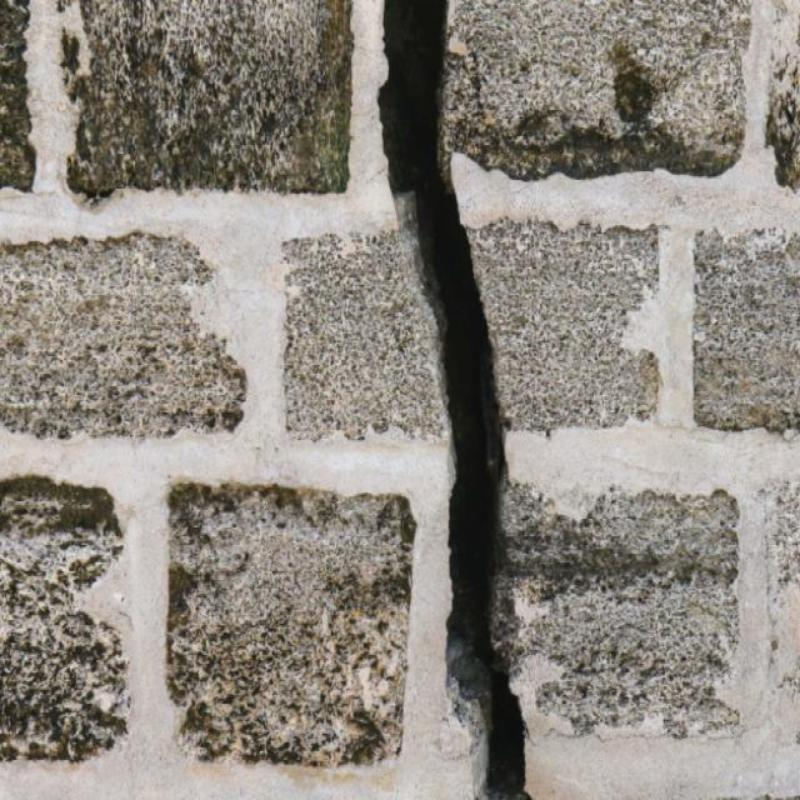pothole: (380, 0, 525, 798)
